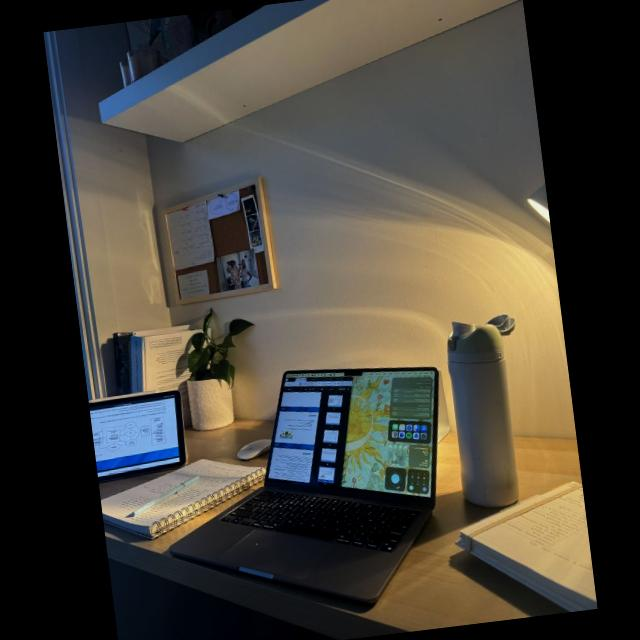laptop: (172, 358, 468, 616), (87, 378, 188, 477)
